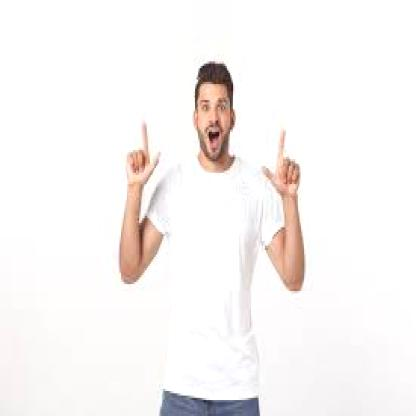Up: (259, 117, 304, 199), (116, 113, 158, 182)
